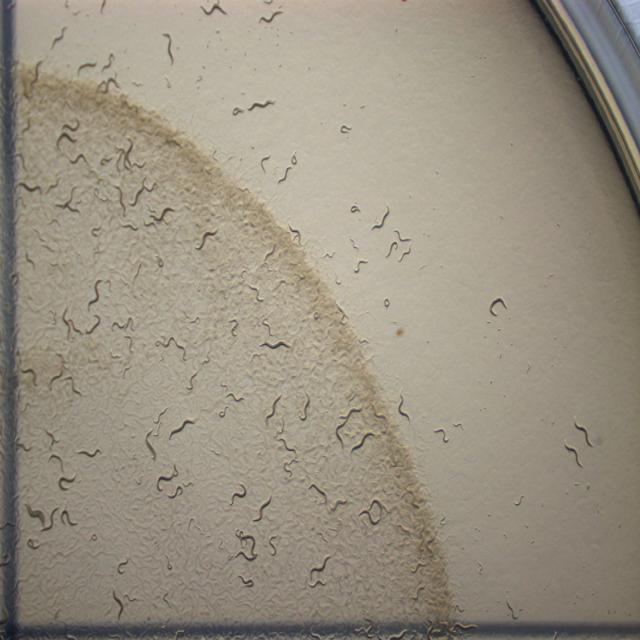filarid: (26, 504, 59, 531), (232, 98, 275, 116), (278, 152, 298, 183), (156, 464, 179, 490), (169, 417, 196, 438), (195, 229, 218, 250), (265, 395, 281, 425), (575, 420, 592, 447), (254, 494, 271, 520), (230, 482, 248, 505), (112, 587, 124, 620), (60, 505, 78, 527), (162, 33, 174, 64), (565, 445, 582, 466), (51, 27, 67, 48), (260, 8, 282, 23), (201, 2, 226, 15), (490, 297, 506, 315), (59, 474, 76, 490), (260, 340, 290, 349), (398, 394, 409, 418), (279, 438, 296, 453), (101, 53, 115, 71), (145, 432, 155, 455), (168, 485, 182, 499), (78, 63, 96, 73), (226, 392, 244, 402), (260, 155, 270, 171), (78, 449, 100, 456), (118, 559, 128, 574), (220, 405, 228, 417), (341, 125, 351, 133), (305, 397, 310, 413), (88, 534, 98, 542), (100, 0, 106, 13), (284, 462, 290, 472), (184, 482, 192, 487), (221, 384, 226, 388), (385, 300, 389, 304), (398, 330, 402, 334), (435, 429, 442, 431), (445, 437, 448, 441)
